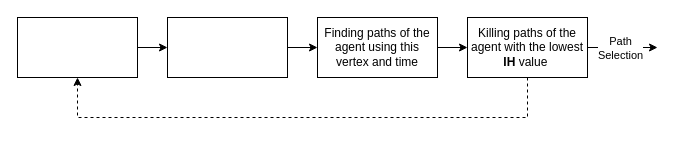
Some shapes in this 683 by 143 pixel diagram are drawn without their labels. Here are the shapes that lost their labels. From the top down, the centre of each, then its label:
(77,47): Computing IH & GH
(227,47): Picking the vertex at time having the highest GH value
